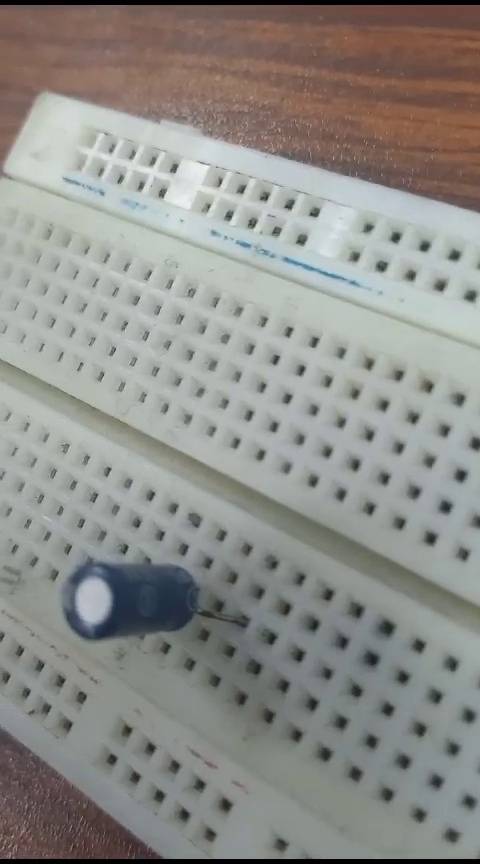capacitor: (56, 552, 234, 665)
